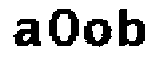0: (50, 5, 80, 49)
a: (11, 17, 45, 49)
b: (117, 7, 151, 49)
o: (81, 16, 116, 47)
